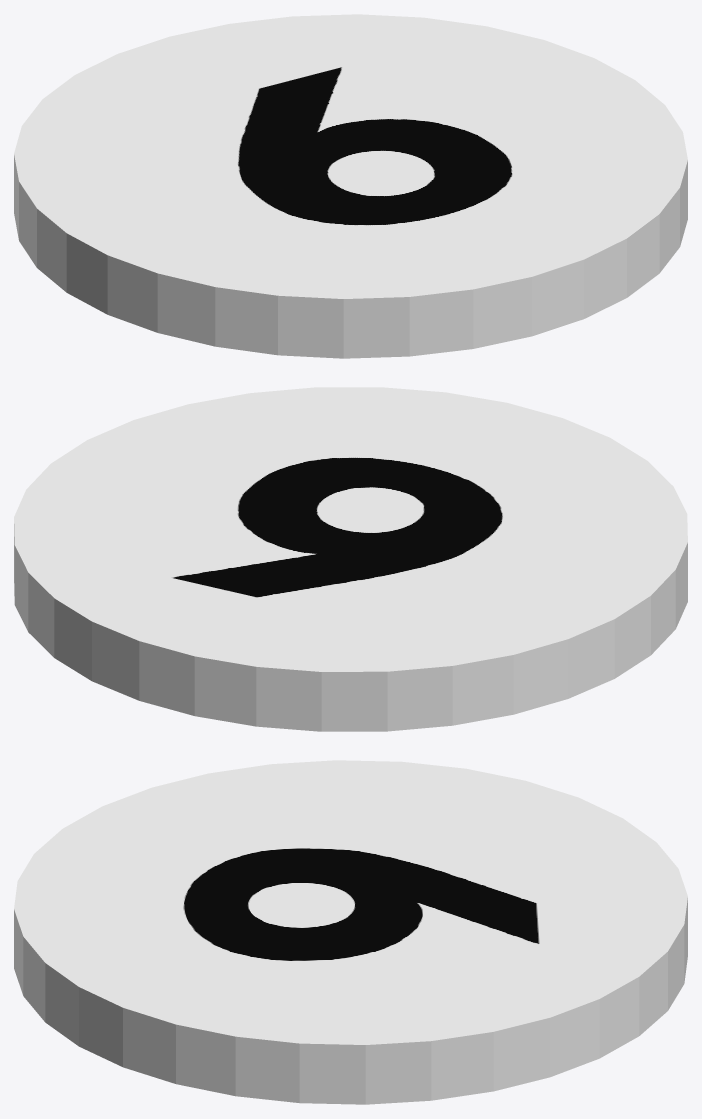
Rendered from Enam.fbx.
3 views of the same model, one above another, from view 1: azimuth 30°, elevation 25°; view 2: azimuth 150°, elevation 25°; view 3: azimuth 270°, elevation 25° (orthographic).
Visible parts, largest first — view 1: Cylinder; view 2: Cylinder; view 3: Cylinder.
Part boxes in pixels (box(x1,y1,x2,y2)): Cylinder: box(14, 14, 687, 358); Cylinder: box(14, 387, 687, 731); Cylinder: box(14, 760, 687, 1104).
Size of the model in its own units: 243 by 23.72 by 243.
